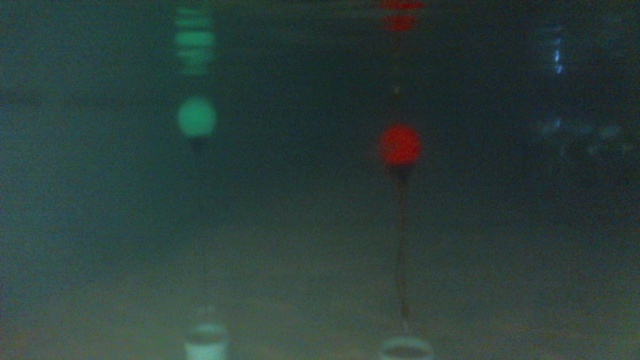buoy_green: (173, 91, 220, 155)
buoy_red: (375, 120, 424, 187)
